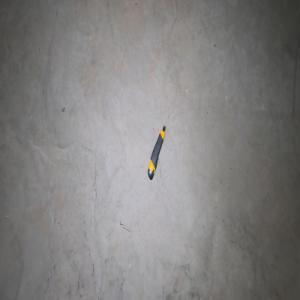Cutter: (147, 125, 166, 180)
